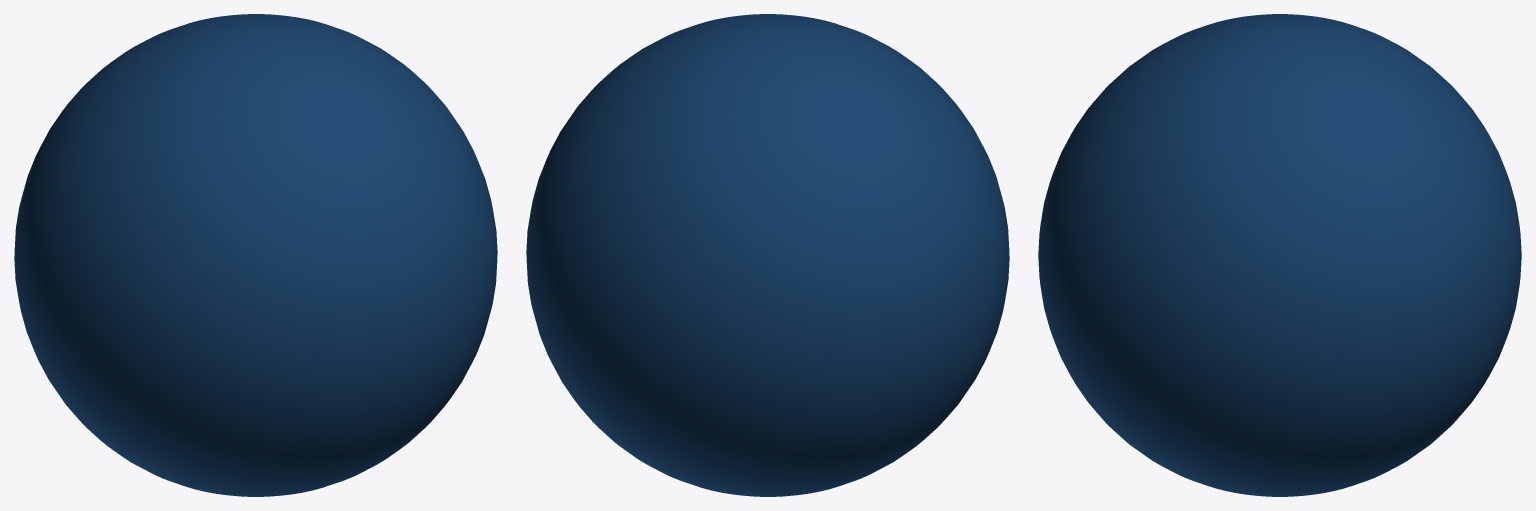
Rendered from earth.glb.
The picture shows the model from 3 angles, left to right: view 1: azimuth 30°, elevation 25°; view 2: azimuth 150°, elevation 25°; view 3: azimuth 270°, elevation 25°; orthographic projection.
Visible parts, largest first — view 1: Earth; view 2: Earth; view 3: Earth.
Part boxes in pixels (left/top/right/bottom): Earth: left=14, top=14, right=497, bottom=496; Earth: left=526, top=14, right=1009, bottom=496; Earth: left=1038, top=14, right=1521, bottom=496.
Size of the model in its own units: 1.28 by 1.28 by 1.28.
